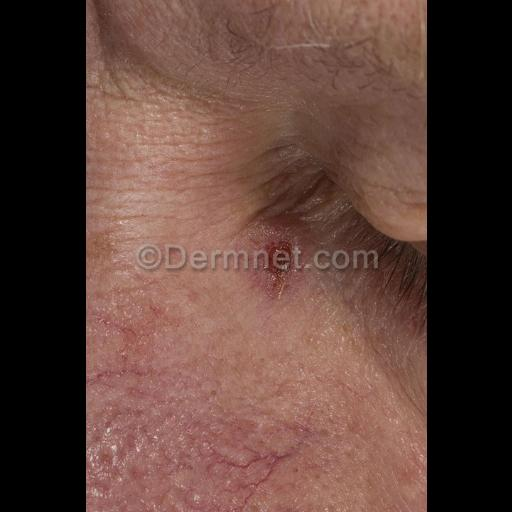Skin_Lesion: (238, 233, 300, 299), (96, 304, 156, 362)
